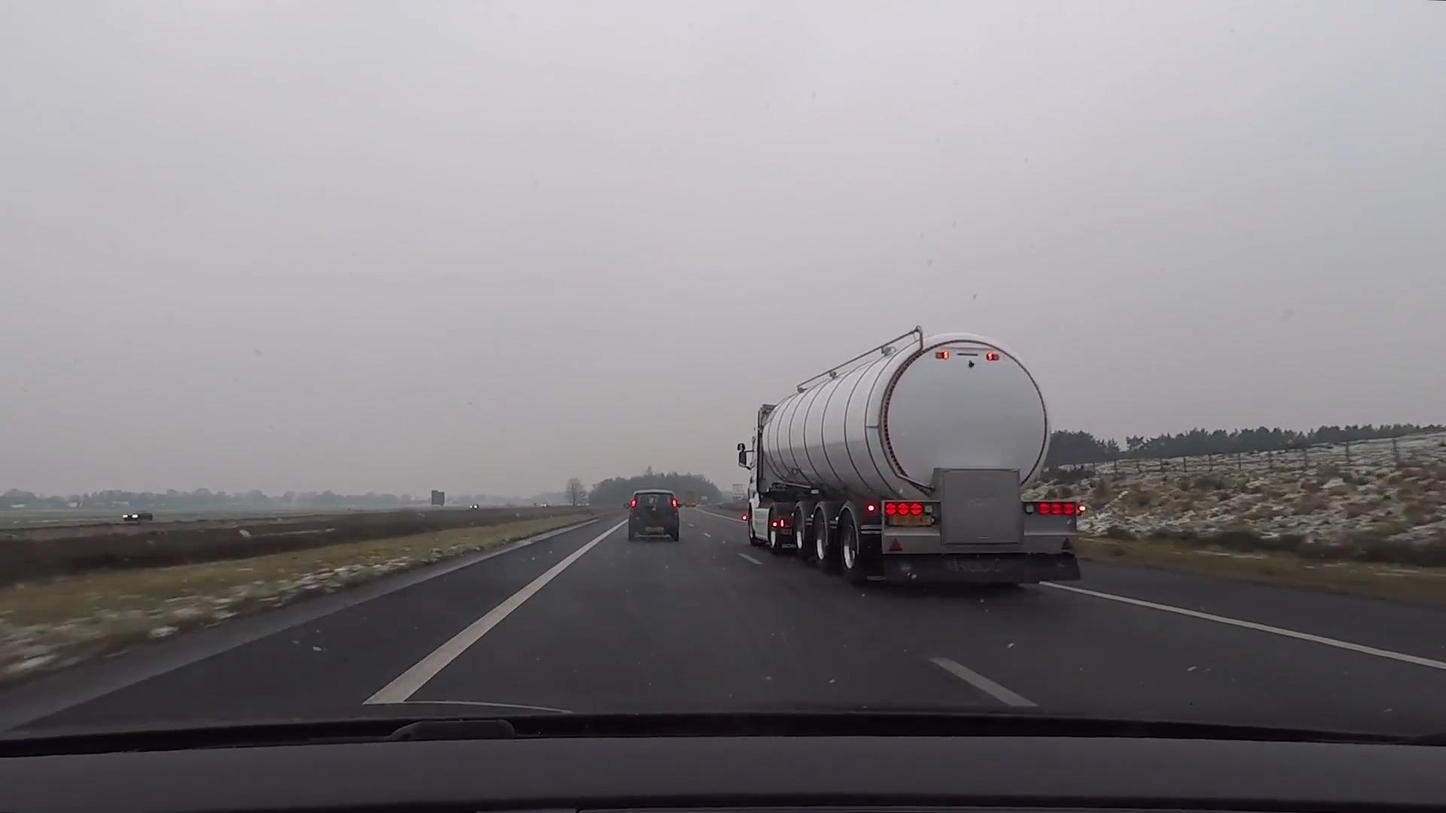Ice: (2, 505, 1445, 733)
